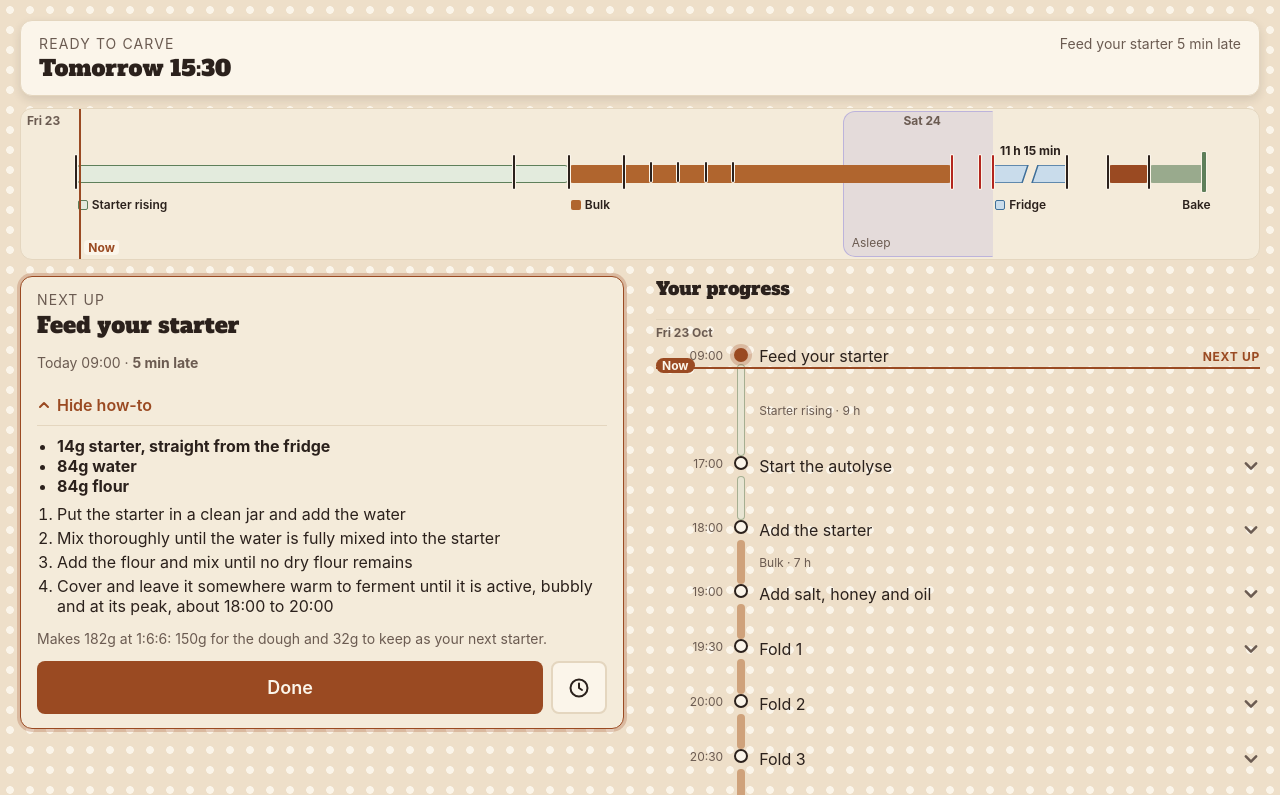
Test: New bake: the progress on the vertical rail › marks the next step, ticks done ones, and moves on when you tap Done
Click the button "Done". click: click(290, 688)
box: [37, 661, 543, 714]
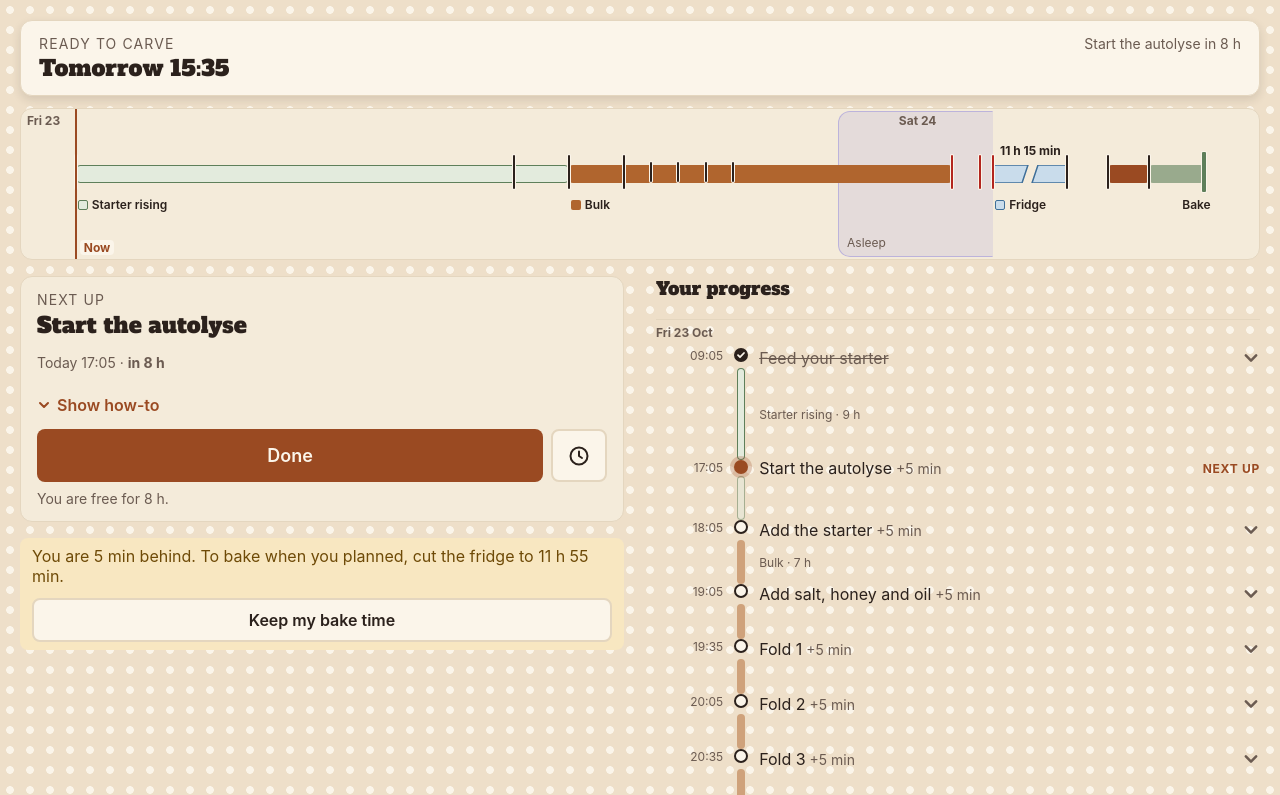
Expected: the number of elements with class "is-done" is 1, [737, 368, 860, 460]
Result: the element "Next up" shows "Start the autolyse" at [37, 310, 247, 340]
